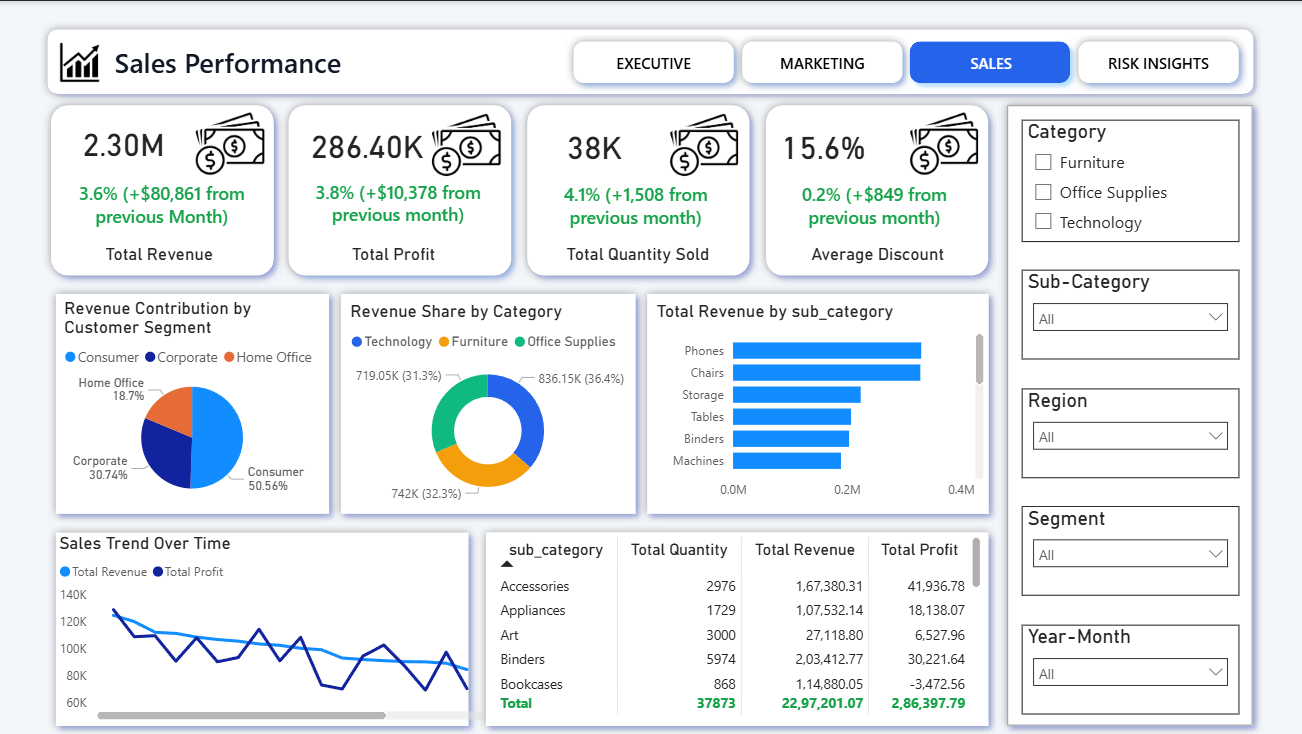

The dashboard page shown, as its layout file describes it:
{"tool":"powerbi","page":{"name":"Sales performance","canvas":[1280,720],"ordinal":2},"visuals":[{"type":"shape","box":[40.5,20,1200,79.8],"z":0},{"type":"shape","box":[981.6,93,258.9,627],"z":0,"group":"g4"},{"type":"image","box":[40.5,38,58.9,44.2],"z":1000},{"type":"shape","box":[555.8,30.7,175.5,58.9],"z":2000},{"type":"shape","box":[276,93.3,236.8,185.3],"z":2000,"group":"g1"},{"type":"shape","box":[721.1,30.7,175.5,58.9],"z":3000},{"type":"shape","box":[886.3,30.7,175.5,58.9],"z":4000},{"type":"shape","box":[327.2,278.6,307.3,233.9],"z":4000,"group":"g6"},{"type":"shape","box":[1051.5,30.7,175.5,58.9],"z":5000},{"type":"actionButton","title":"Marketing ","box":[566.1,41.7,155.8,40.5],"z":6000},{"type":"actionButton","title":"Marketing ","box":[731.3,41.7,155.8,40.5],"z":7000},{"type":"slicer","title":"Year-Month","fields":{"Values":["DateTable.Year-Month"]},"box":[1004.9,612,213.5,88.3],"z":7000,"group":"g4"},{"type":"actionButton","title":"Marketing ","box":[896.5,41.7,155.8,40.5],"z":8000},{"type":"actionButton","title":"Marketing ","box":[1061.8,41.7,155.8,40.5],"z":9000},{"type":"card","fields":{"Values":["DateTable.Profit Change Text (MoM)"]},"box":[292.8,160.8,203.7,74.8],"z":9000,"group":"g1"},{"type":"group","id":"g1","title":"Group 2","box":[42.9,93.3,938.5,185.4],"z":10000},{"type":"group","id":"g2","title":"Group 7","box":[47.3,93,1193.2,627.2],"z":11000},{"type":"slicer","title":"Category","fields":{"Values":["sales_marketing_bi sales_cleaned.category"]},"box":[1004.9,116.3,213.5,120.2],"z":11000,"group":"g4"},{"type":"group","id":"g3","title":"Group 1","box":[470.2,512.5,511.3,207.7],"z":12000},{"type":"card","fields":{"Values":["sales_marketing_bi sales_cleaned.Total Profit"]},"box":[278.6,109.5,167.9,64.7],"z":13000,"group":"g1"},{"type":"shape","box":[628.2,278.6,353.3,233.9],"z":15000,"group":"g7"},{"type":"shape","box":[470.2,512.5,511.3,207.7],"z":15000,"group":"g3"},{"type":"tableEx","fields":{"Values":["sales_marketing_bi sales_cleaned.sub_category","sales_marketing_bi sales_cleaned.Total Quantity","sales_marketing_bi sales_cleaned.Total Revenue","sales_marketing_bi sales_cleaned.Total Profit"]},"box":[482.6,521.2,487.6,184.1],"z":16000,"group":"g3"},{"type":"slicer","title":"Region","fields":{"Values":["sales_marketing_bi sales_cleaned.region"]},"box":[1004.9,380.1,213.5,88.3],"z":18000,"group":"g4"},{"type":"image","box":[421.6,109.3,74.8,65],"z":19000,"group":"g1"},{"type":"donutChart","title":"Revenue Share by Category","fields":{"Category":["sales_marketing_bi sales_cleaned.category"],"Y":["sales_marketing_bi sales_cleaned.Total Revenue"]},"box":[340.9,294.8,279.9,204],"z":20000,"group":"g6"},{"type":"slicer","title":"Segment","fields":{"Values":["sales_marketing_bi sales_cleaned.segment"]},"box":[1004.9,496.1,213.5,88.3],"z":21000,"group":"g4"},{"type":"textbox","box":[333.5,233.2,109.2,31.9],"z":22000,"group":"g1"},{"type":"slicer","title":"Sub-Category","fields":{"Values":["sales_marketing_bi sales_cleaned.sub_category"]},"box":[1004.9,264.2,213.5,88.3],"z":23000,"group":"g4"},{"type":"shape","box":[47.3,512.5,422.9,207.7],"z":24000,"group":"g2"},{"type":"shape","box":[47.3,278.6,286.1,233.9],"z":25000,"group":"g5"},{"type":"shape","box":[42.9,93.3,236.8,185.3],"z":26000,"group":"g1"},{"type":"pieChart","title":"Revenue Contribution by Customer Segment","fields":{"Category":["sales_marketing_bi sales_cleaned.segment"],"Y":["sales_marketing_bi sales_cleaned.Total Revenue"]},"box":[59.7,291.1,261.2,207.7],"z":27000,"group":"g5"},{"type":"lineChart","title":"Sales Trend Over Time","fields":{"Category":["DateTable.Year-Month"],"Y":["sales_marketing_bi sales_cleaned.Total Revenue"],"Y2":["sales_marketing_bi sales_cleaned.Total Profit"]},"box":[54.8,521.2,426.7,189.1],"z":28000,"group":"g2"},{"type":"clusteredBarChart","fields":{"Category":["sales_marketing_bi sales_cleaned.sub_category"],"Y":["sales_marketing_bi sales_cleaned.Total Revenue"]},"box":[640.7,294.8,330.9,204],"z":29000,"group":"g7"},{"type":"card","fields":{"Values":["sales_marketing_bi sales_cleaned.Total Revenue"]},"box":[43.5,108.3,160.5,64.7],"z":30000,"group":"g1"},{"type":"card","fields":{"Values":["DateTable.Revenue Change Text"]},"box":[61.4,161.6,203.7,75],"z":31000,"group":"g1"},{"type":"textbox","box":[88.4,233.2,139.9,31.9],"z":32000,"group":"g1"},{"type":"image","box":[190.1,108,74.8,65],"z":33000,"group":"g1"},{"type":"shape","box":[510,93.3,236.4,185.3],"z":34000,"group":"g1"},{"type":"shape","box":[745.1,93.3,236.4,185.3],"z":35000,"group":"g1"},{"type":"card","fields":{"Values":["sales_marketing_bi sales_cleaned.Quantity Change Text"]},"box":[526.1,163,204,74.6],"z":36000,"group":"g1"},{"type":"card","fields":{"Values":["sales_marketing_bi sales_cleaned.Total Quantity"]},"box":[505,109.5,160.5,67.2],"z":37000,"group":"g1"},{"type":"textbox","box":[546.1,232.7,164.2,32.3],"z":38000,"group":"g1"},{"type":"textbox","box":[788.6,232.7,149.3,32.3],"z":39000,"group":"g1"},{"type":"card","fields":{"Values":["sales_marketing_bi sales_cleaned.Average Discount %"]},"box":[730.2,109.5,160.5,67.2],"z":40000,"group":"g1"},{"type":"image","box":[655.5,109.5,74.6,64.7],"z":41000,"group":"g1"},{"type":"image","box":[890.6,108.3,74.6,64.7],"z":42000,"group":"g1"},{"type":"card","fields":{"Values":["sales_marketing_bi sales_cleaned.Discount Change Text"]},"box":[761.3,163,204,74.6],"z":43000,"group":"g1"},{"type":"group","id":"g4","title":"Group 3","box":[981.6,93,258.9,627],"z":44002,"group":"g5"},{"type":"group","id":"g5","title":"Group 4","box":[47.3,93,1193.2,627],"z":44003,"group":"g6"},{"type":"group","id":"g6","title":"Group 5","box":[47.3,93,1193.2,627],"z":44004,"group":"g7"},{"type":"group","id":"g7","title":"Group 6","box":[47.3,93,1193.2,627],"z":44005,"group":"g2"}]}

Visuals, with their boxes in screenshot pixels (x1, y1, x2, y2), scaled from the page's 1280x720 canvas onto the 1302x734 screenshot:
shape: <box>41,20,1262,102</box>
shape: <box>998,95,1262,733</box>
image: <box>41,39,101,84</box>
shape: <box>565,31,744,91</box>
shape: <box>281,95,522,284</box>
shape: <box>733,31,912,91</box>
shape: <box>902,31,1080,91</box>
shape: <box>333,284,645,522</box>
shape: <box>1070,31,1248,91</box>
"Marketing " actionButton: <box>576,43,734,84</box>
"Marketing " actionButton: <box>744,43,902,84</box>
"Year-Month" slicer: <box>1022,624,1239,714</box>
"Marketing " actionButton: <box>912,43,1070,84</box>
"Marketing " actionButton: <box>1080,43,1239,84</box>
card - DateTable.Profit Change Text (MoM): <box>298,164,505,240</box>
"Group 2" group: <box>44,95,998,284</box>
"Group 7" group: <box>48,95,1262,733</box>
"Category" slicer: <box>1022,119,1239,241</box>
"Group 1" group: <box>478,522,998,733</box>
card - sales_marketing_bi sales_cleaned.Total Profit: <box>283,112,454,178</box>
shape: <box>639,284,998,522</box>
shape: <box>478,522,998,733</box>
tableEx - sales_marketing_bi sales_cleaned.sub_category x sales_marketing_bi sales_cleaned.Total Quantity: <box>491,531,987,719</box>
"Region" slicer: <box>1022,387,1239,478</box>
image: <box>429,111,505,178</box>
"Revenue Share by Category" donutChart: <box>347,301,631,508</box>
"Segment" slicer: <box>1022,506,1239,596</box>
textbox: <box>339,238,450,270</box>
"Sub-Category" slicer: <box>1022,269,1239,359</box>
shape: <box>48,522,478,733</box>
shape: <box>48,284,339,522</box>
shape: <box>44,95,285,284</box>
"Revenue Contribution by Customer Segment" pieChart: <box>61,297,326,508</box>
"Sales Trend Over Time" lineChart: <box>56,531,490,724</box>
clusteredBarChart - sales_marketing_bi sales_cleaned.sub_category x sales_marketing_bi sales_cleaned.Total Revenue: <box>652,301,988,508</box>
card - sales_marketing_bi sales_cleaned.Total Revenue: <box>44,110,208,176</box>
card - DateTable.Revenue Change Text: <box>62,165,270,241</box>
textbox: <box>90,238,232,270</box>
image: <box>193,110,269,176</box>
shape: <box>519,95,759,284</box>
shape: <box>758,95,998,284</box>
card - sales_marketing_bi sales_cleaned.Quantity Change Text: <box>535,166,743,242</box>
card - sales_marketing_bi sales_cleaned.Total Quantity: <box>514,112,677,180</box>
textbox: <box>555,237,723,270</box>
textbox: <box>802,237,954,270</box>
card - sales_marketing_bi sales_cleaned.Average Discount %: <box>743,112,906,180</box>
image: <box>667,112,743,178</box>
image: <box>906,110,982,176</box>
card - sales_marketing_bi sales_cleaned.Discount Change Text: <box>774,166,982,242</box>
"Group 3" group: <box>998,95,1262,733</box>
"Group 4" group: <box>48,95,1262,733</box>
"Group 5" group: <box>48,95,1262,733</box>
"Group 6" group: <box>48,95,1262,733</box>
